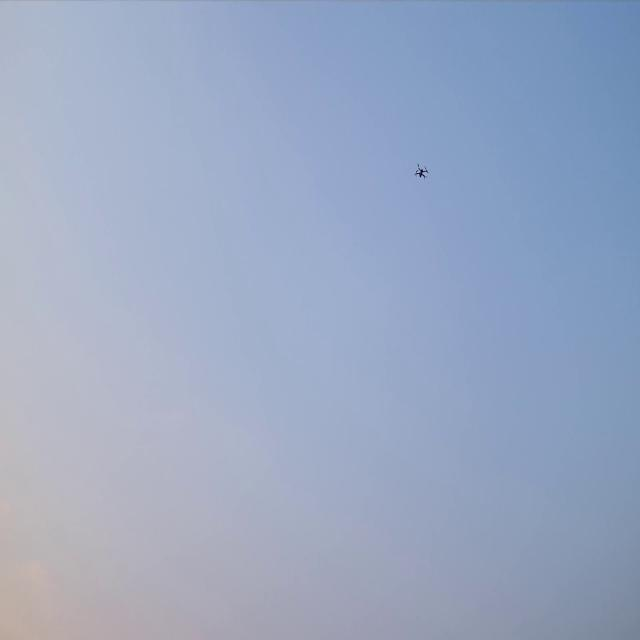UAV: (416, 165, 426, 177)
